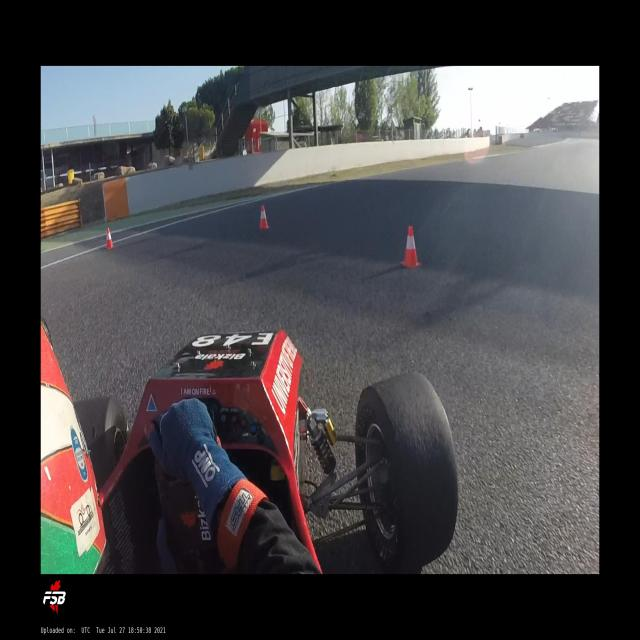orange_cone: (400, 224, 422, 268), (258, 204, 269, 229), (104, 226, 115, 249)
